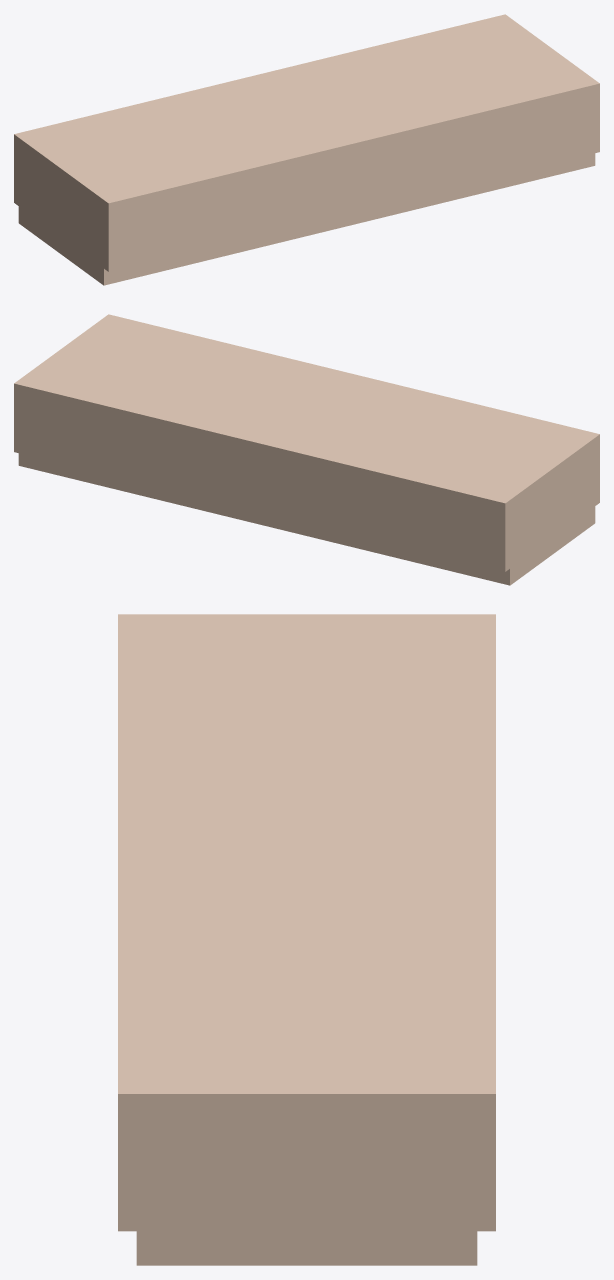
Rendered from greek_wall_divider_3.fbx.
3 views of the same model, one above another, from view 1: azimuth 30°, elevation 25°; view 2: azimuth 150°, elevation 25°; view 3: azimuth 270°, elevation 25° (orthographic). The views are drawn at different scales.
Visible parts, largest first — view 1: Cube.041; view 2: Cube.041; view 3: Cube.041.
Part boxes in pixels (x1,y1,x2,y2): Cube.041: [14, 14, 599, 285]; Cube.041: [14, 314, 599, 585]; Cube.041: [118, 614, 495, 1265].
Size of the model in its own units: 300 by 50 by 100.
